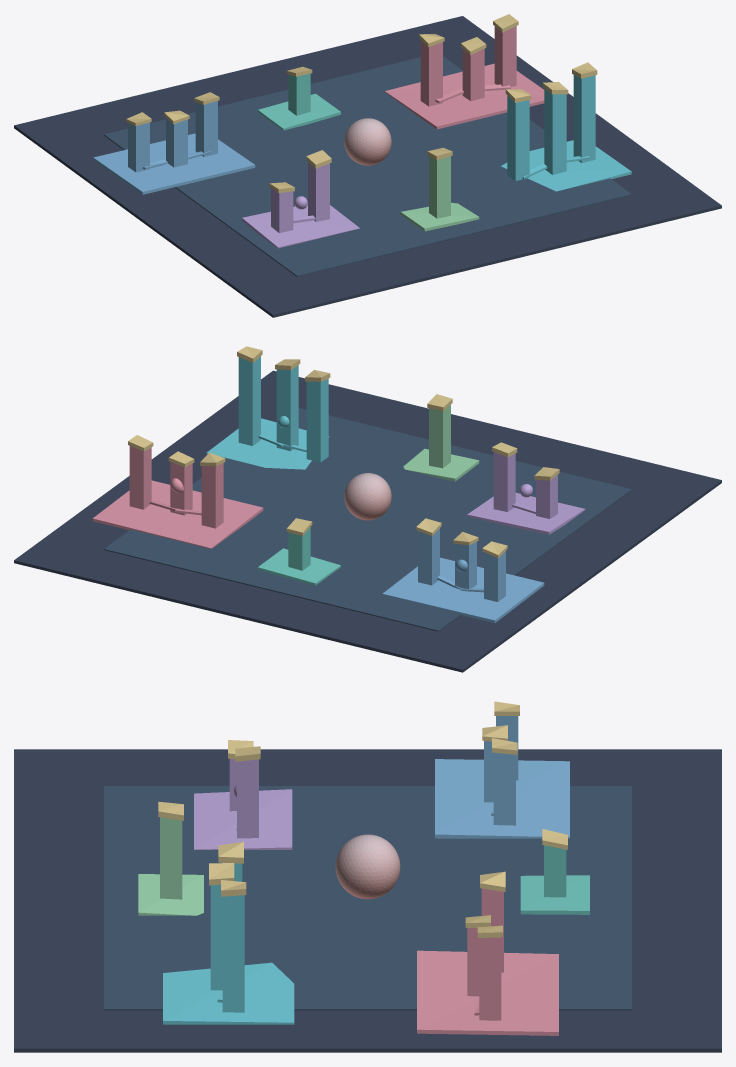
File: workflow_city_mutated.glb
The picture shows the model from 3 angles, top to bottom: view 1: azimuth 30°, elevation 25°; view 2: azimuth 150°, elevation 25°; view 3: azimuth 270°, elevation 25°; orthographic projection. The views are drawn at different scales.
Parts seen in each view (by area): view 1: world; view 2: world; view 3: world.
Part boxes in pixels (left/top/right/bottom): world: left=14, top=14, right=721, bottom=317; world: left=14, top=346, right=721, bottom=672; world: left=14, top=701, right=721, bottom=1052.
Bounding box in the file's own units: 29.5 × 6.02 × 29.5.
